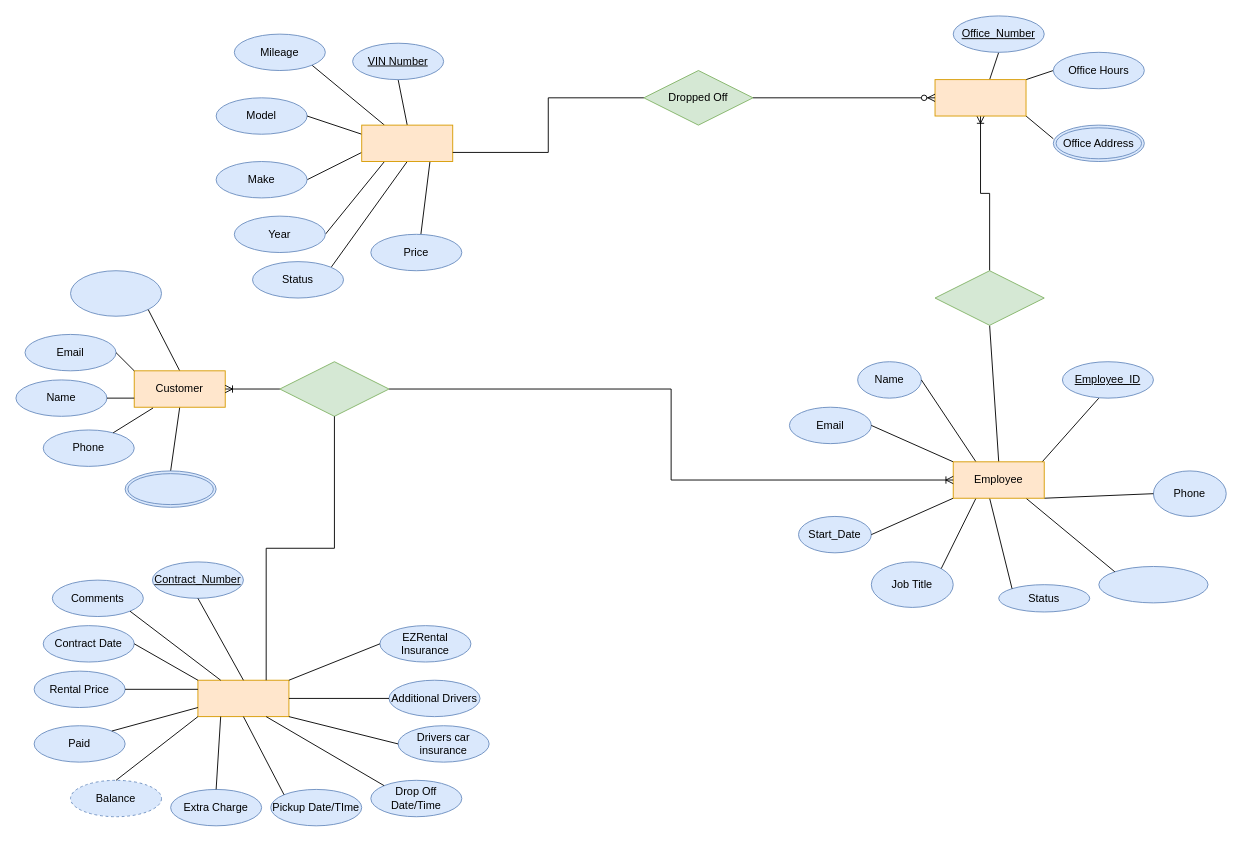
Some shapes in this 1242 by 842 pixel diagram are drawn without their labels. Here are the shapes that lost their labels. From the top down, the box of each, then its label:
(934, 79, 1026, 116): Rental Offices
(361, 124, 453, 162): Rental Cars
(70, 270, 162, 316): Drivers License
(934, 270, 1044, 325): Belongs To
(279, 361, 389, 416): Contracts
(124, 470, 216, 507): Address
(1098, 566, 1208, 603): Termination_Date
(197, 679, 289, 717): Contract
